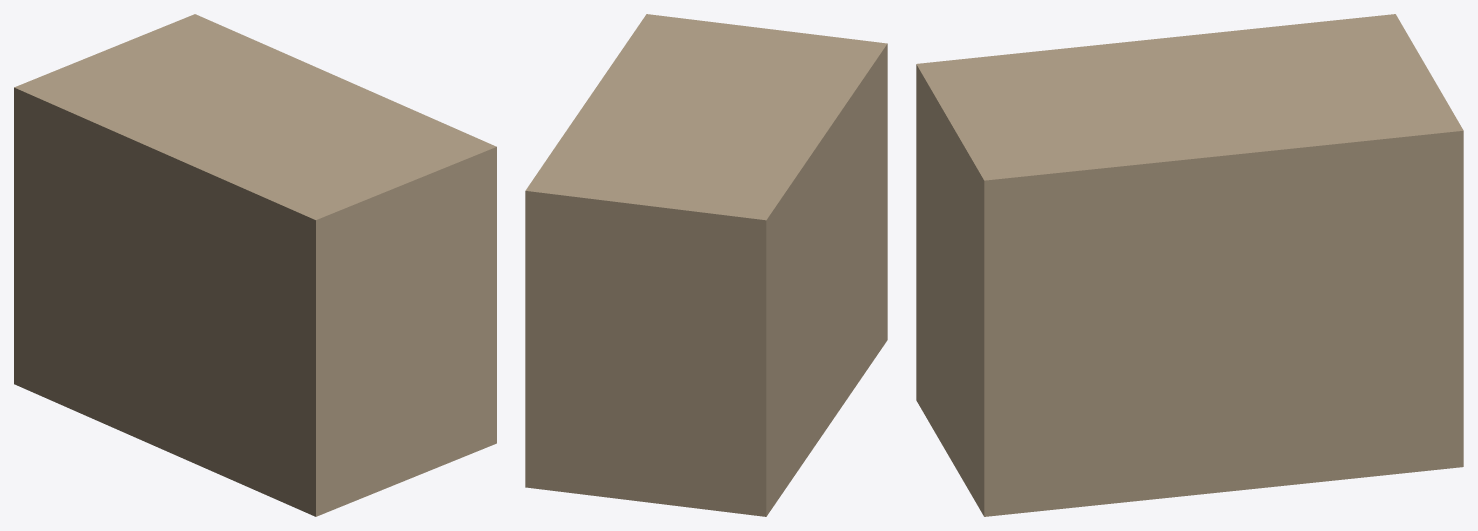
Rendered from bld_106456353.dae.
3 renders of one model, left to right at view 1: azimuth 30°, elevation 25°; view 2: azimuth 150°, elevation 25°; view 3: azimuth 270°, elevation 25°, orthographic. The views are drawn at different scales.
Parts seen in each view (by area): view 1: bld_106456353; view 2: bld_106456353; view 3: bld_106456353.
Boxes of the visible parts, x1,y1,x2,y2 form: bld_106456353: (14, 14, 496, 516); bld_106456353: (525, 14, 887, 516); bld_106456353: (916, 14, 1463, 516).
Bounding box in the file's own units: 8.5 × 11.8 × 8.
